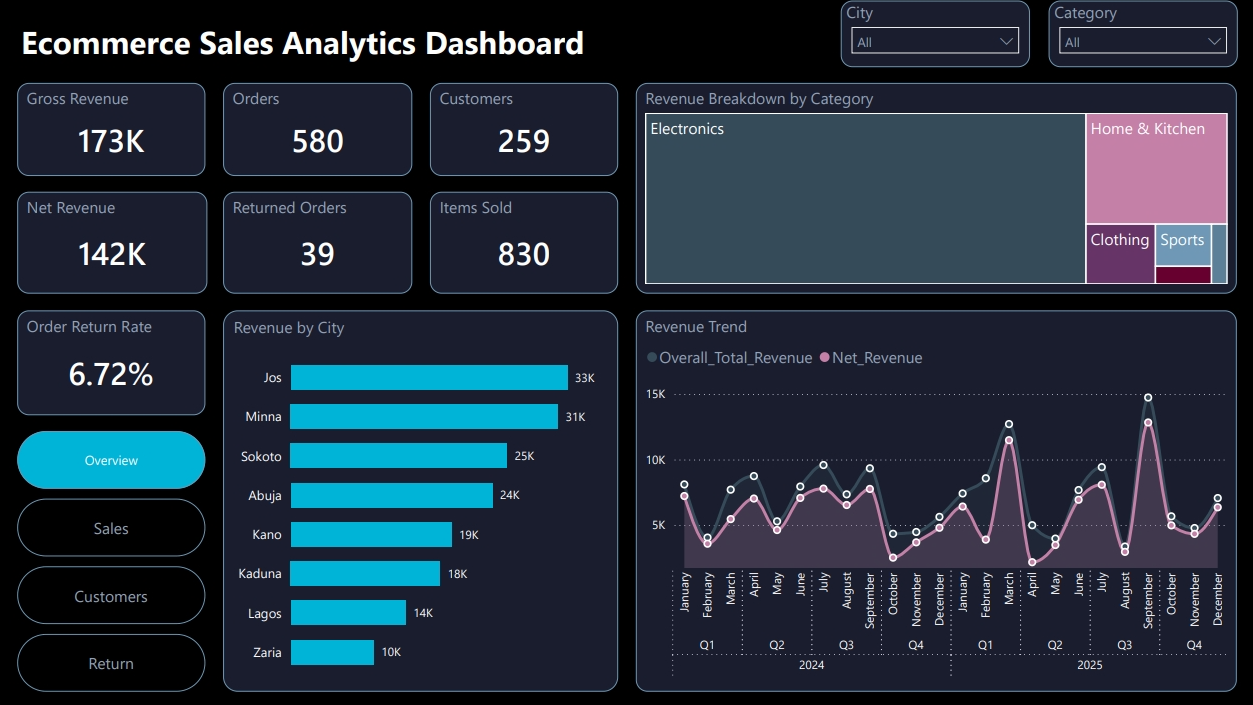

The dashboard page shown, as its layout file describes it:
{"tool":"powerbi","page":{"name":"Overview","canvas":[1280,720],"ordinal":0},"visuals":[{"type":"pageNavigator","box":[17.9,439.2,191.8,265.3],"z":2000},{"type":"card","title":"Gross Revenue","fields":{"Values":["retail_store_sales ecommerce_dataset_dashboard_table.Overall_Total_Revenue"]},"box":[17.9,84.3,191.8,95],"z":3000},{"type":"card","title":"Orders","fields":{"Values":["retail_store_sales ecommerce_dataset_dashboard_table.Total Orders"]},"box":[227.7,84.3,193.6,95],"z":4000},{"type":"card","title":"Customers","fields":{"Values":["retail_store_sales ecommerce_dataset_dashboard_table.Total_Customers"]},"box":[439.2,84.3,191.8,95],"z":5000},{"type":"card","title":"Returned Orders","fields":{"Values":["retail_store_sales ecommerce_dataset_dashboard_table.Returned_Orders"]},"box":[227.7,195.4,193.6,104],"z":6000},{"type":"card","title":"Net Revenue","fields":{"Values":["retail_store_sales ecommerce_dataset_dashboard_table.Net_Revenue"]},"box":[17.9,195.4,193.6,104],"z":7000},{"type":"slicer","title":"City","fields":{"Values":["retail_store_sales ecommerce_dataset_dashboard_table.City"]},"box":[857.9,0,193.1,68.4],"z":8000},{"type":"slicer","title":"Category","fields":{"Values":["retail_store_sales ecommerce_dataset_dashboard_table.Category"]},"box":[1069.8,0,193.1,68.4],"z":9000},{"type":"card","title":"Items Sold","fields":{"Values":["retail_store_sales ecommerce_dataset_dashboard_table.Total_Items_Sold"]},"box":[439.2,195.4,191.8,104],"z":10000},{"type":"lineChart","title":"Revenue Trend","fields":{"Y":["retail_store_sales ecommerce_dataset_dashboard_table.Overall_Total_Revenue","retail_store_sales ecommerce_dataset_dashboard_table.Net_Revenue"],"Category":["DateTable.Year","DateTable.Quarter","DateTable.Month"]},"box":[649,315.5,613.1,389],"z":11000},{"type":"barChart","title":"Revenue by City","fields":{"Y":["retail_store_sales ecommerce_dataset_dashboard_table.Overall_Total_Revenue"],"Category":["retail_store_sales ecommerce_dataset_dashboard_table.City"]},"box":[227.7,315.5,403.4,389],"z":12000},{"type":"treemap","title":"Revenue Breakdown by Category","fields":{"Values":["retail_store_sales ecommerce_dataset_dashboard_table.Overall_Total_Revenue"],"Group":["retail_store_sales ecommerce_dataset_dashboard_table.Category"]},"box":[649,84.3,613.1,215.1],"z":13000},{"type":"card","title":"Order Return Rate","fields":{"Values":["retail_store_sales ecommerce_dataset_dashboard_table.Order_Return_Rate"]},"box":[17.9,315.5,191.8,107.6],"z":14000},{"type":"textbox","box":[17.1,15.4,823.7,53],"z":15000}]}

Visuals, with their boxes in screenshot pixels (x1, y1, x2, y2), scaled from the page's 1280x720 canvas onto the 1253x705 screenshot:
pageNavigator: {"x1": 18, "y1": 430, "x2": 205, "y2": 690}
"Gross Revenue" card: {"x1": 18, "y1": 83, "x2": 205, "y2": 176}
"Orders" card: {"x1": 223, "y1": 83, "x2": 412, "y2": 176}
"Customers" card: {"x1": 430, "y1": 83, "x2": 618, "y2": 176}
"Returned Orders" card: {"x1": 223, "y1": 191, "x2": 412, "y2": 293}
"Net Revenue" card: {"x1": 18, "y1": 191, "x2": 207, "y2": 293}
"City" slicer: {"x1": 840, "y1": 0, "x2": 1029, "y2": 67}
"Category" slicer: {"x1": 1047, "y1": 0, "x2": 1236, "y2": 67}
"Items Sold" card: {"x1": 430, "y1": 191, "x2": 618, "y2": 293}
"Revenue Trend" lineChart: {"x1": 635, "y1": 309, "x2": 1235, "y2": 690}
"Revenue by City" barChart: {"x1": 223, "y1": 309, "x2": 618, "y2": 690}
"Revenue Breakdown by Category" treemap: {"x1": 635, "y1": 83, "x2": 1235, "y2": 293}
"Order Return Rate" card: {"x1": 18, "y1": 309, "x2": 205, "y2": 414}
textbox: {"x1": 17, "y1": 15, "x2": 823, "y2": 67}
